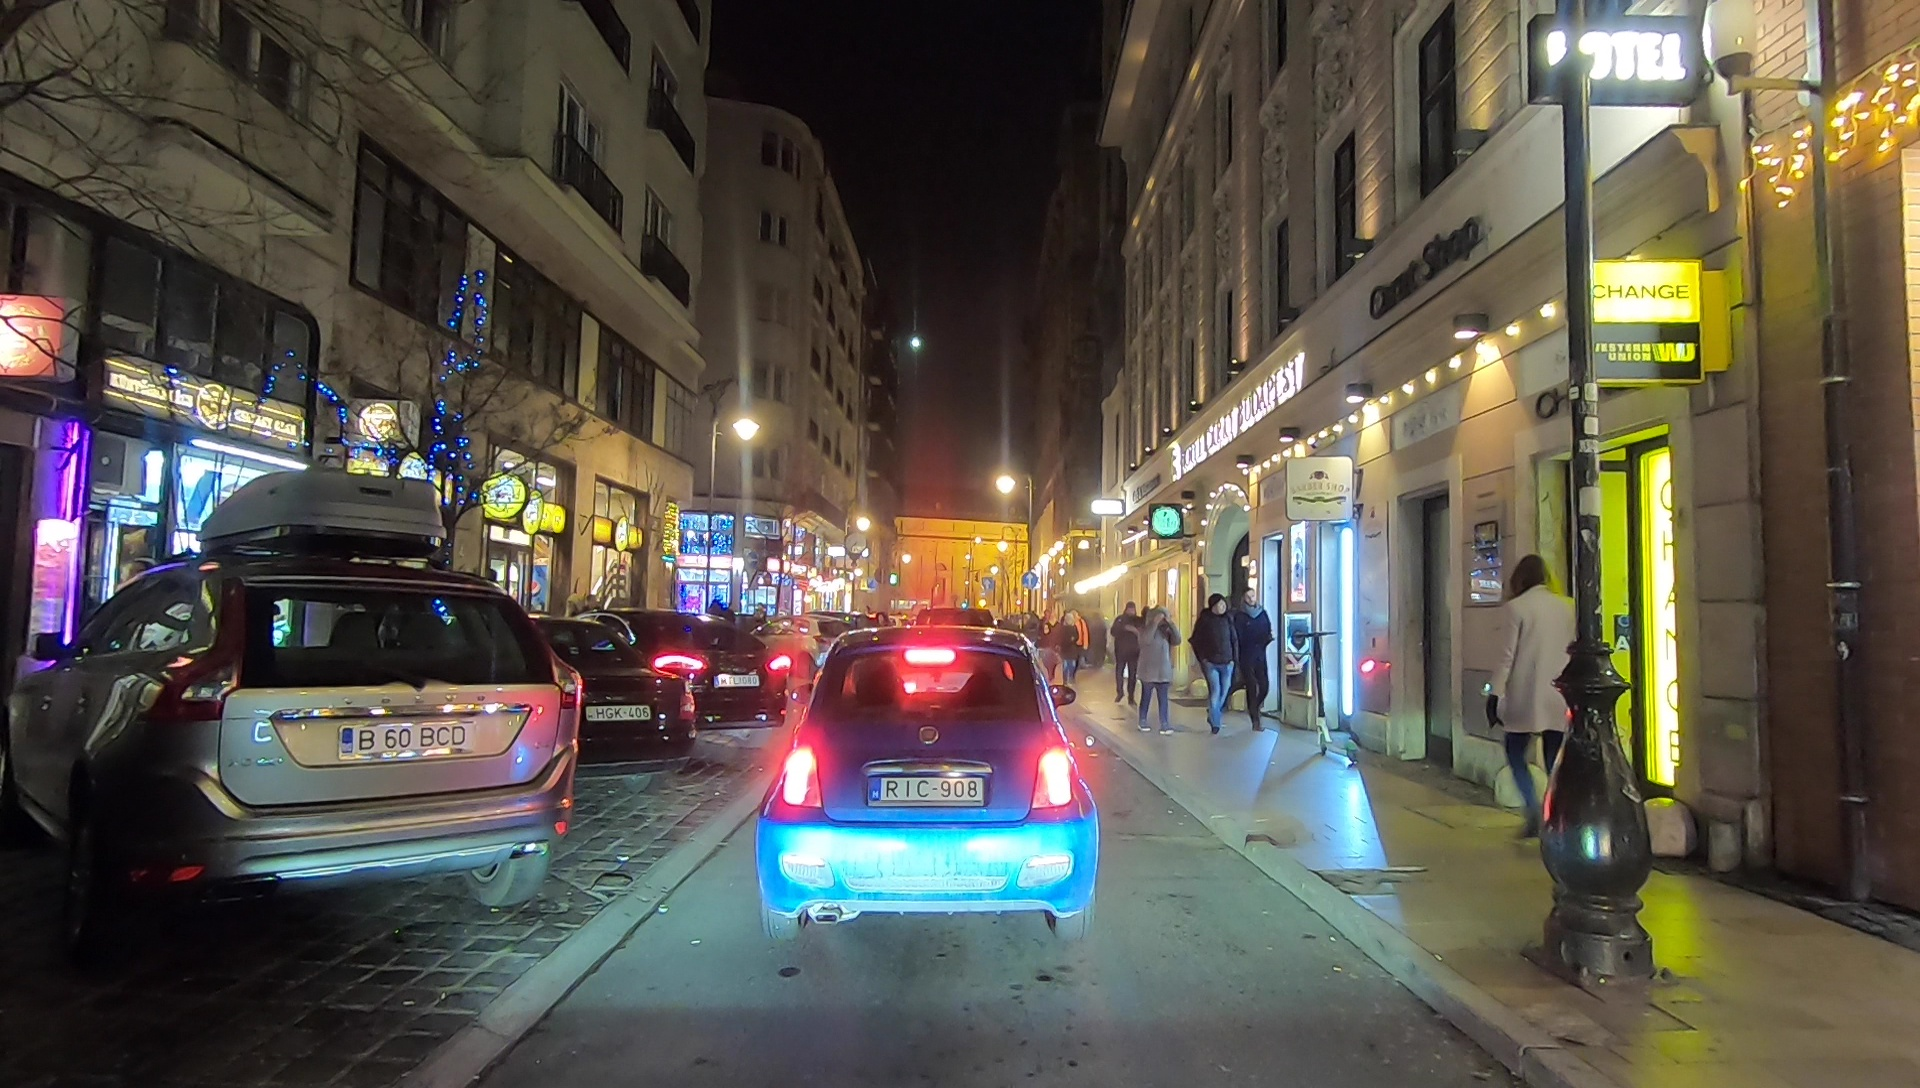person: (1489, 555, 1581, 836), (1190, 595, 1233, 734), (1135, 608, 1178, 738), (1235, 587, 1273, 733), (1114, 601, 1141, 706), (1042, 610, 1061, 675), (1061, 614, 1080, 682), (1088, 610, 1108, 667), (873, 612, 893, 669)
